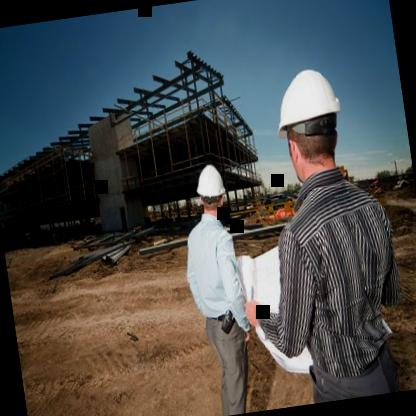helmet: (262, 54, 352, 186), (190, 152, 232, 228)
